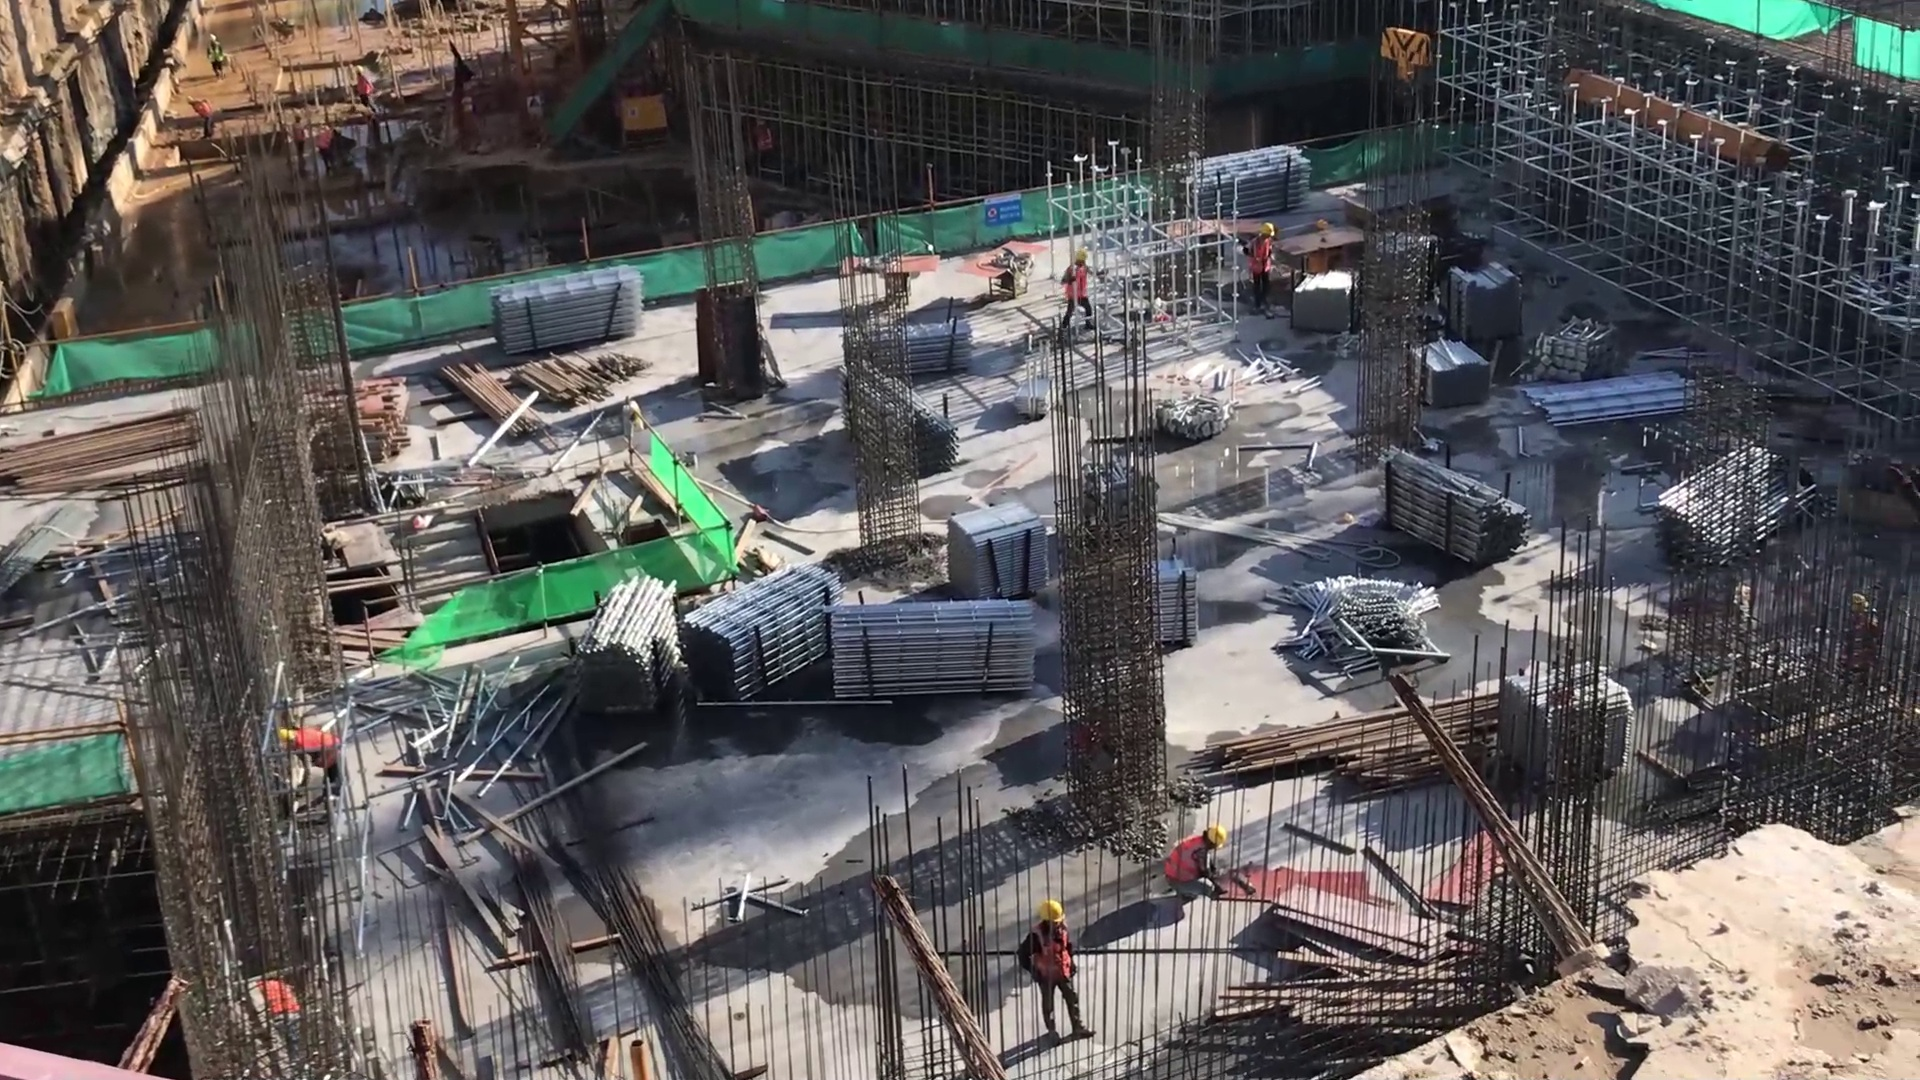cutter: (960, 231, 1053, 299), (843, 244, 946, 305)
ebox: (615, 88, 676, 155)
helmet: (1029, 895, 1071, 931), (272, 723, 297, 759), (1202, 820, 1229, 854), (1070, 247, 1090, 270), (1255, 220, 1277, 240), (182, 92, 198, 109), (204, 31, 222, 45)
hook: (1360, 26, 1443, 102)
person: (1014, 894, 1098, 1042), (1155, 820, 1233, 916), (270, 720, 347, 809), (1236, 215, 1286, 322), (1055, 248, 1102, 334), (182, 91, 225, 147), (200, 27, 230, 89)
scaffold: (819, 589, 1049, 716), (679, 557, 854, 714), (1374, 432, 1525, 571), (483, 252, 660, 369), (568, 571, 688, 721), (939, 494, 1053, 614), (1181, 139, 1325, 228), (1439, 259, 1531, 357), (1411, 331, 1497, 412), (899, 309, 979, 387)
vest: (1027, 925, 1076, 988), (296, 725, 346, 783), (1163, 827, 1207, 890), (1062, 271, 1097, 310), (1248, 238, 1275, 277), (196, 101, 216, 127), (207, 46, 226, 67)
